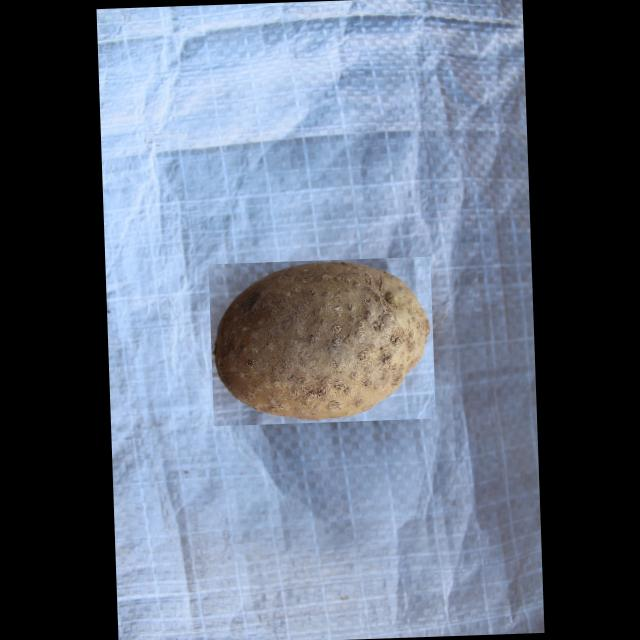Diseased-fungal potato: (208, 255, 436, 425)
